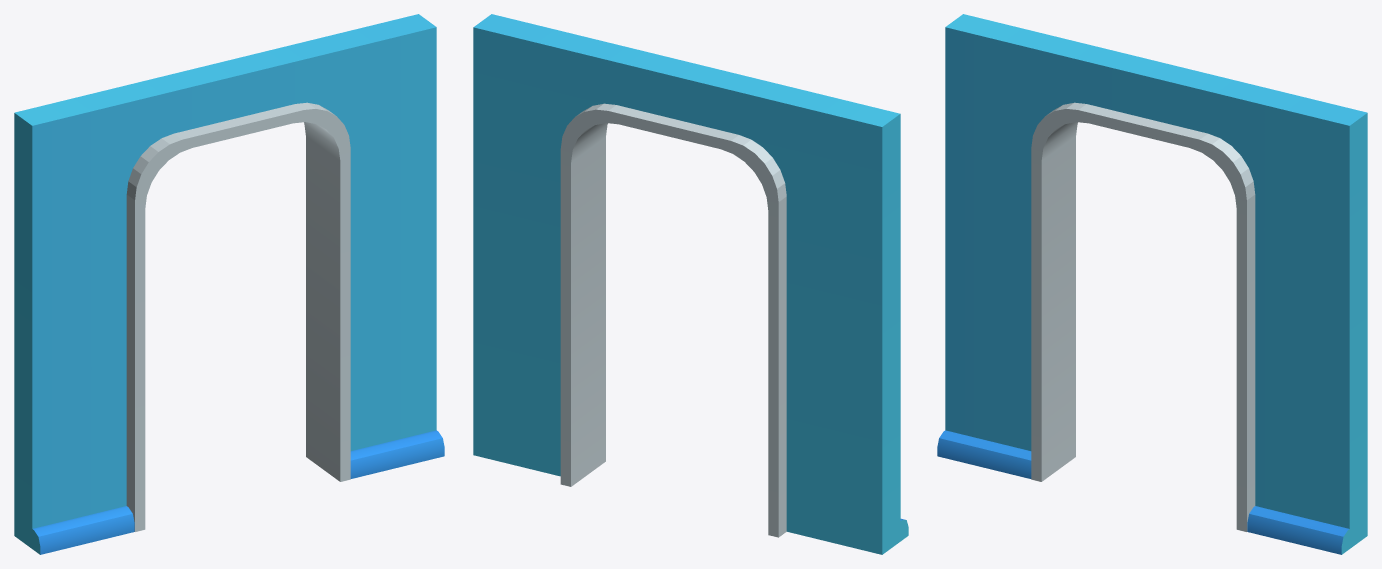
Rendered from B_DoorWall004.fbx.
3 renders of one model, left to right at view 1: azimuth 30°, elevation 25°; view 2: azimuth 150°, elevation 25°; view 3: azimuth 330°, elevation 25°, orthographic.
Parts seen in each view (by area): view 1: DoorWall004; view 2: DoorWall004; view 3: DoorWall004.
Part boxes in pixels (x1,y1,x2,y2): DoorWall004: (14, 14, 444, 554); DoorWall004: (473, 14, 908, 554); DoorWall004: (937, 14, 1367, 554).
Size of the model in its own units: 250 by 250 by 36.86.
Materials: 1 (1 with a texture image).
